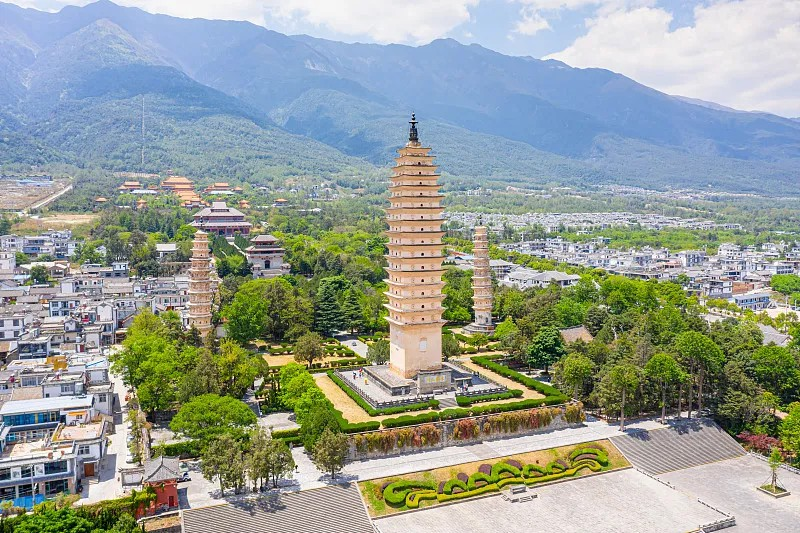ThreePagoda: (383, 111, 448, 379)
